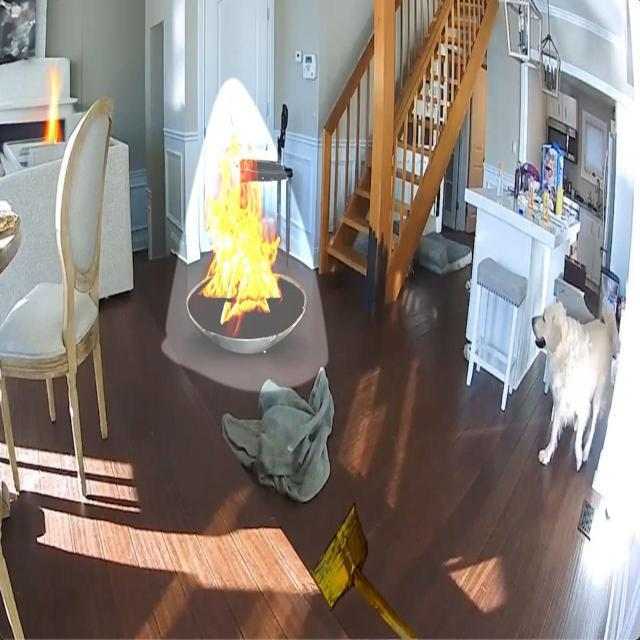smoke: (210, 126, 280, 330), (42, 57, 68, 144)
